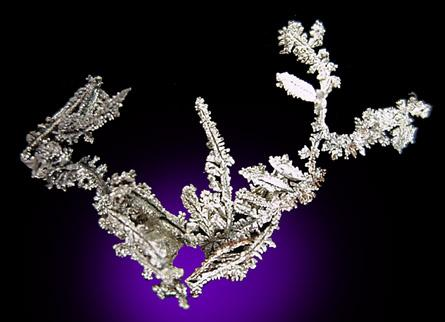silver: (21, 21, 432, 308)
